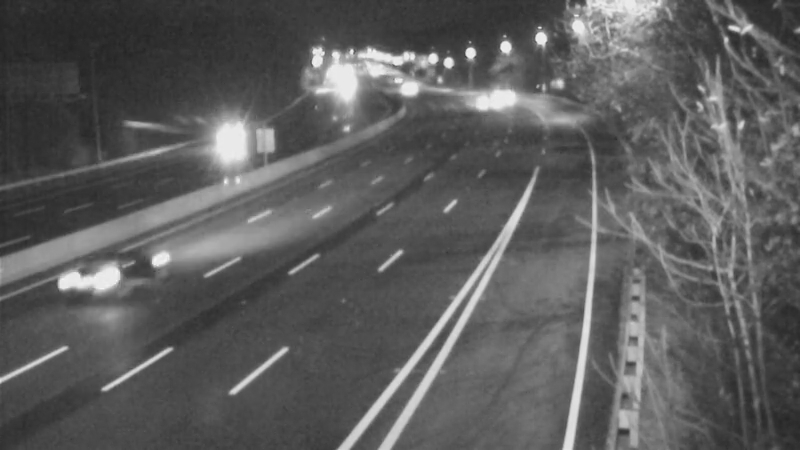vehicle: (59, 228, 139, 308), (382, 63, 432, 113), (450, 77, 500, 127), (476, 73, 526, 123), (203, 115, 253, 165)
